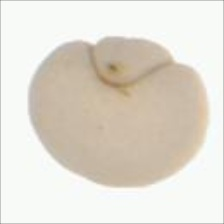L5: (82, 34, 179, 89)
L6: (26, 36, 210, 190)
